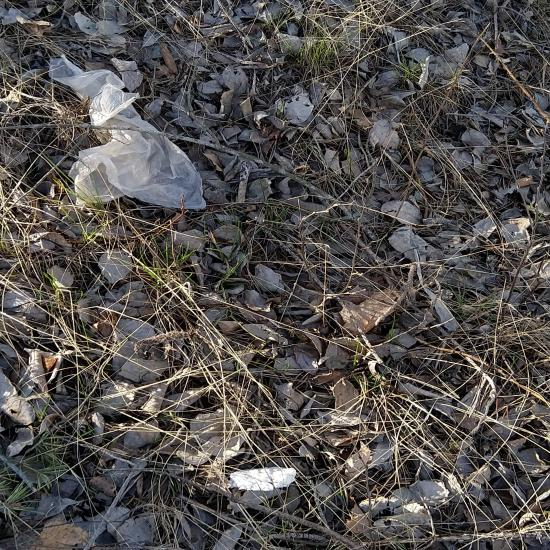Cigarette: (504, 68, 523, 77), (172, 345, 188, 355), (137, 116, 152, 125), (237, 45, 250, 55), (271, 60, 286, 65), (191, 5, 202, 11), (340, 19, 346, 28), (406, 82, 410, 87), (220, 15, 223, 21)
Other plastic bottle: (304, 337, 315, 346), (282, 286, 289, 293)
Plastic bottle cap: (208, 339, 222, 350)
Rope - strings: (66, 266, 266, 333)
Unlabeled litter: (143, 313, 153, 327), (154, 204, 165, 212), (87, 328, 97, 331)
